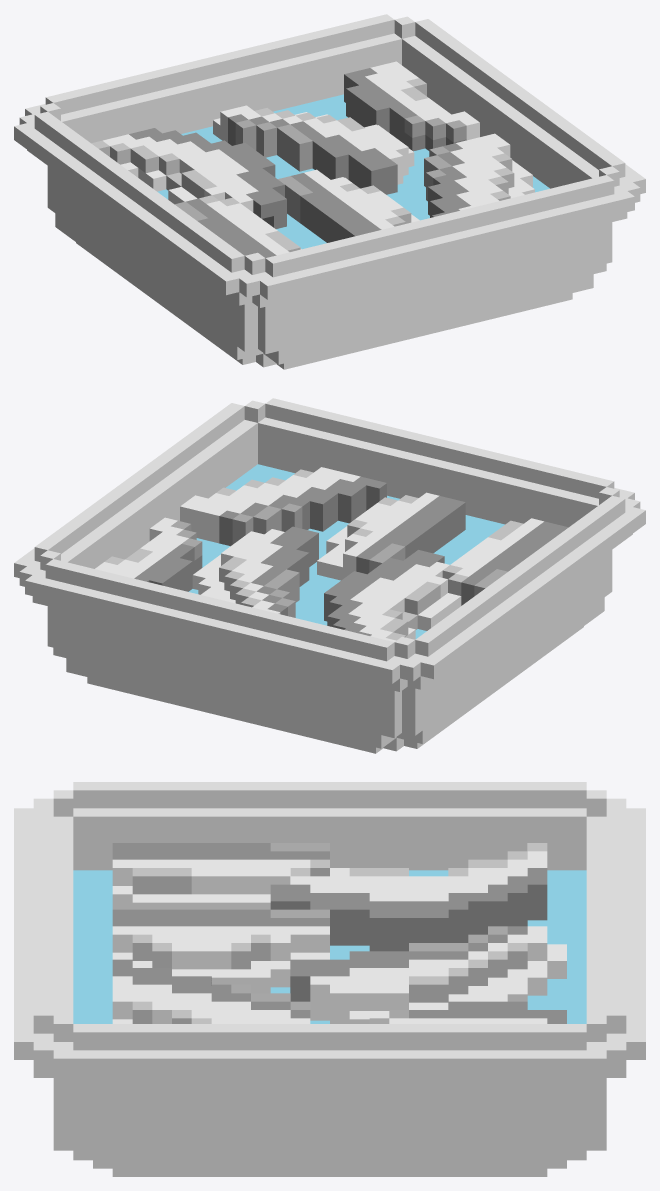
The model's file is sakanabox.fbx.
The picture shows the model from 3 angles, top to bottom: view 1: azimuth 30°, elevation 25°; view 2: azimuth 150°, elevation 25°; view 3: azimuth 270°, elevation 25°; orthographic projection. The views are drawn at different scales.
Visible parts, largest first — view 1: ObjObject.003; view 2: ObjObject.003; view 3: ObjObject.003.
Boxes of the visible parts, bbox=[...] form: ObjObject.003: bbox=[14, 14, 645, 369]; ObjObject.003: bbox=[14, 398, 645, 753]; ObjObject.003: bbox=[14, 782, 645, 1176].
Bounding box in the file's own units: 320 × 90 × 320.
Materials: 1 (1 with a texture image).
